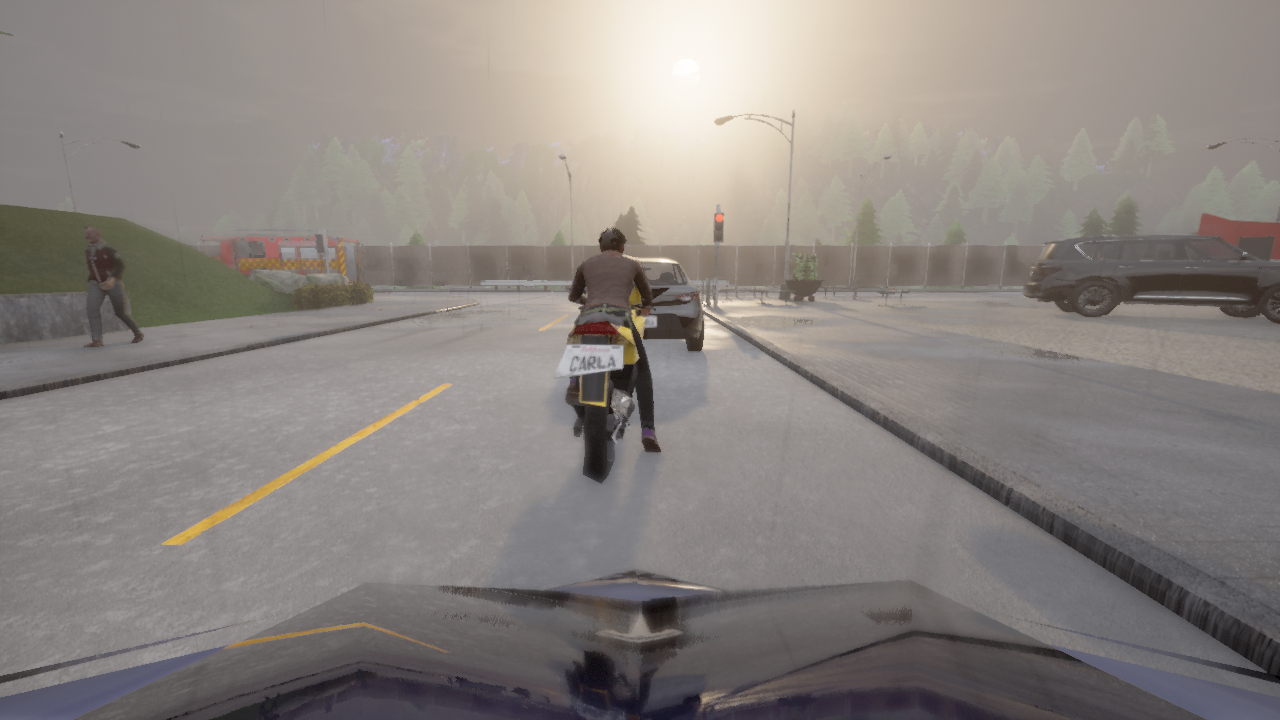cyclist: (0, 569, 1279, 719), (554, 285, 669, 483), (1024, 233, 1279, 322), (198, 228, 366, 282), (632, 257, 704, 351)
pedestrian: (82, 226, 144, 348), (524, 264, 532, 289), (560, 272, 565, 289)
